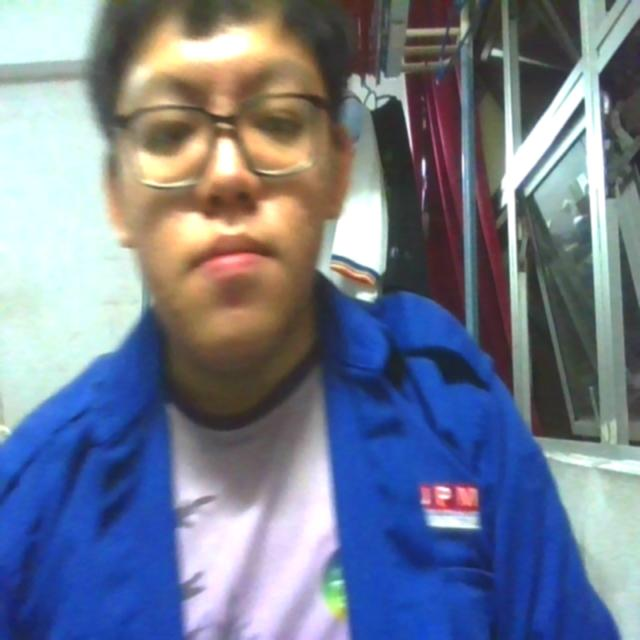person_with_labcoat: (0, 0, 620, 639)
